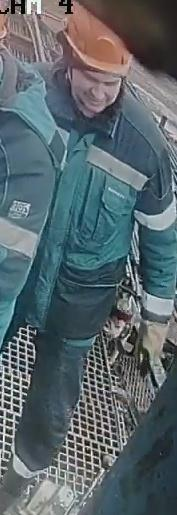gloves: (134, 312, 173, 391)
helmet: (59, 1, 136, 79)
vest: (5, 106, 161, 343)
